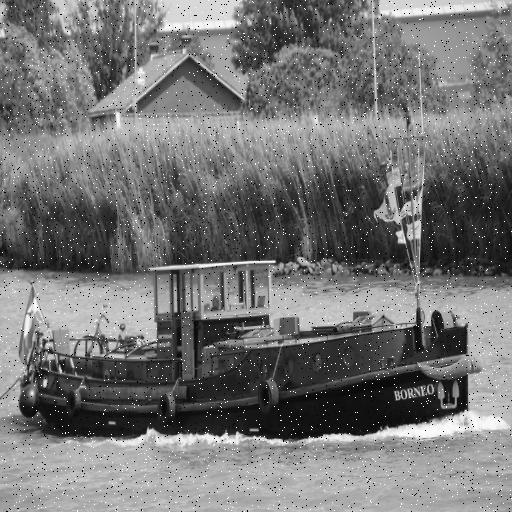tugboat: (12, 248, 487, 461)
